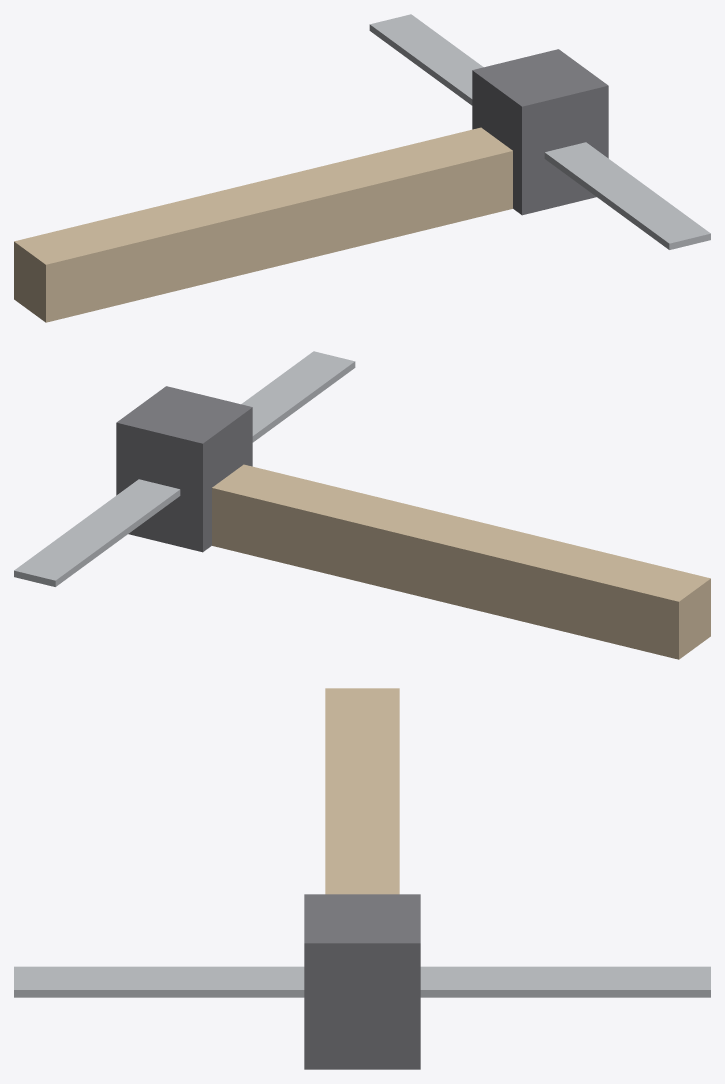
File: prop-millstone-dress-pick.fbx
The picture shows the model from 3 angles, top to bottom: view 1: azimuth 30°, elevation 25°; view 2: azimuth 150°, elevation 25°; view 3: azimuth 270°, elevation 25°; orthographic projection. The views are drawn at different scales.
Parts seen in each view (by area): view 1: prop-millstone-dress-pick; view 2: prop-millstone-dress-pick; view 3: prop-millstone-dress-pick.
Part boxes in pixels (x1,y1,x2,y2): prop-millstone-dress-pick: (14, 14, 710, 322); prop-millstone-dress-pick: (14, 351, 710, 659); prop-millstone-dress-pick: (14, 688, 710, 1069).
Size of the model in its own units: 32 by 6 by 30.
